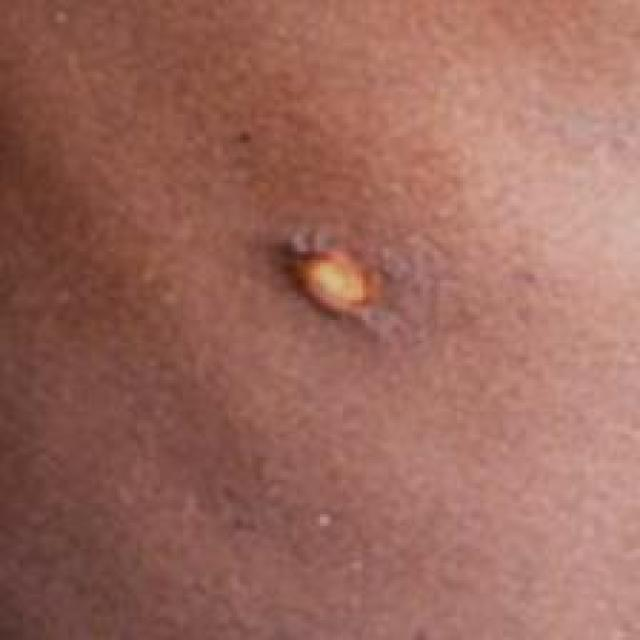monkeypox: (194, 102, 495, 456)
